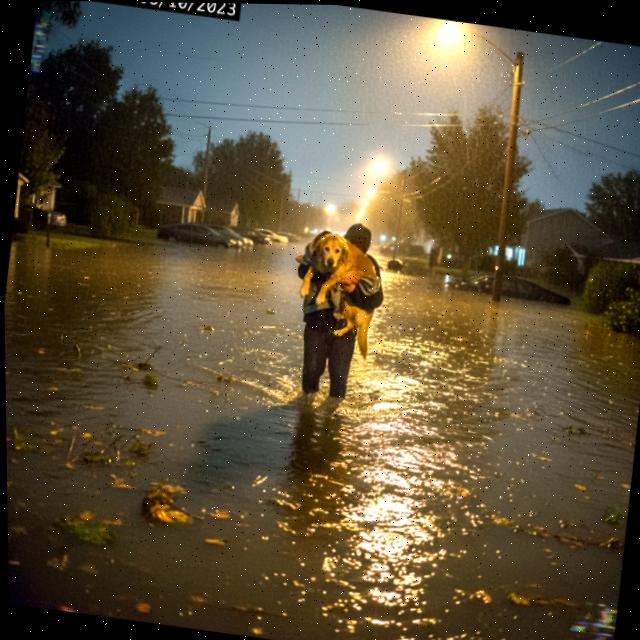civilian: (276, 197, 401, 421)
dog: (296, 219, 396, 365)
